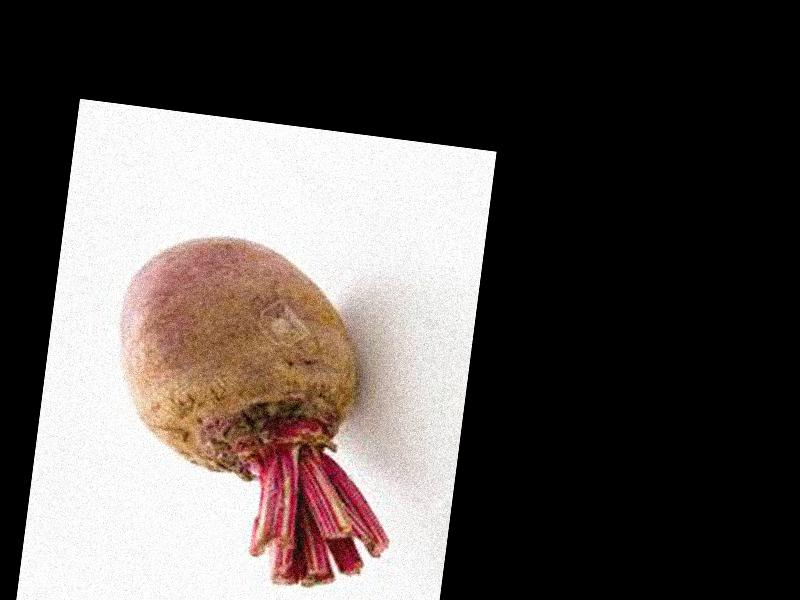Beet: (88, 223, 427, 597)
